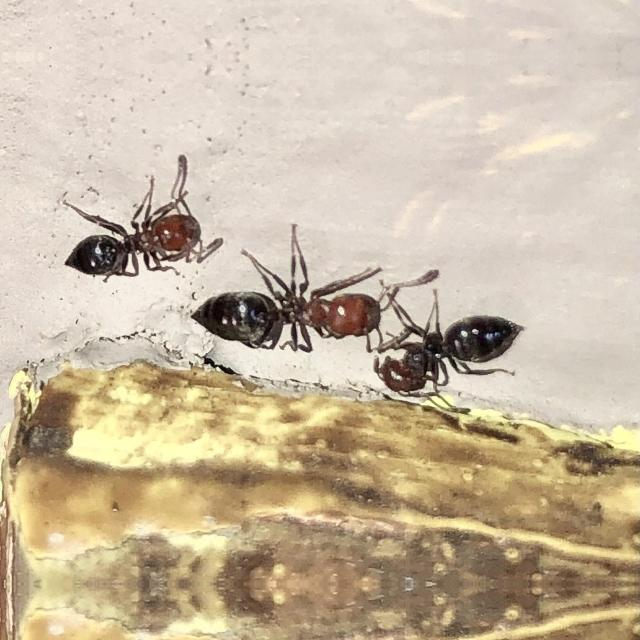Crematogaster: (190, 270, 390, 362), (55, 186, 208, 292), (384, 317, 524, 393)
